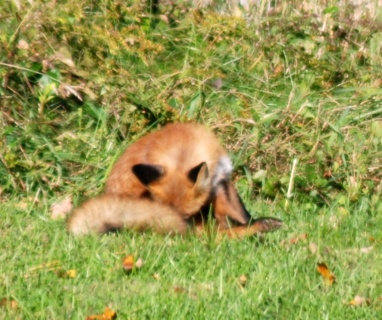Fox: (64, 120, 283, 237)
